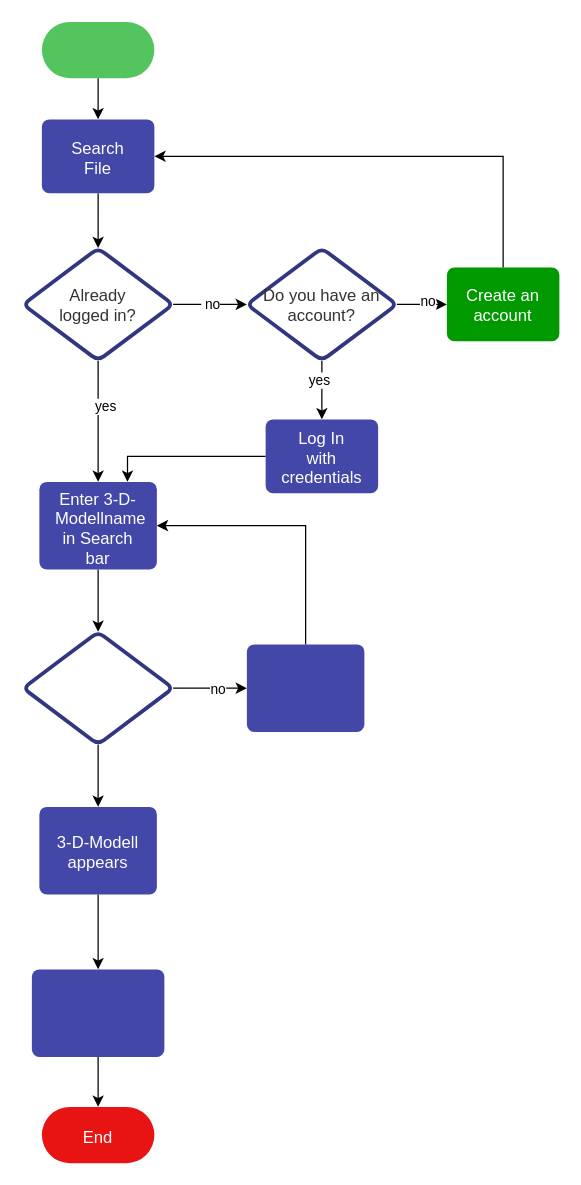
Image size: 581x1185. Some labels were removed from this diagram. The box of each missing label's shape, as (x1, y1, x2, y2) in pixels:
3-D-Modell can be selected and downloaded: (31, 968, 164, 1057)
Does the model name exist?: (21, 629, 174, 746)
start: (41, 21, 154, 78)
Try again: (246, 643, 364, 732)
